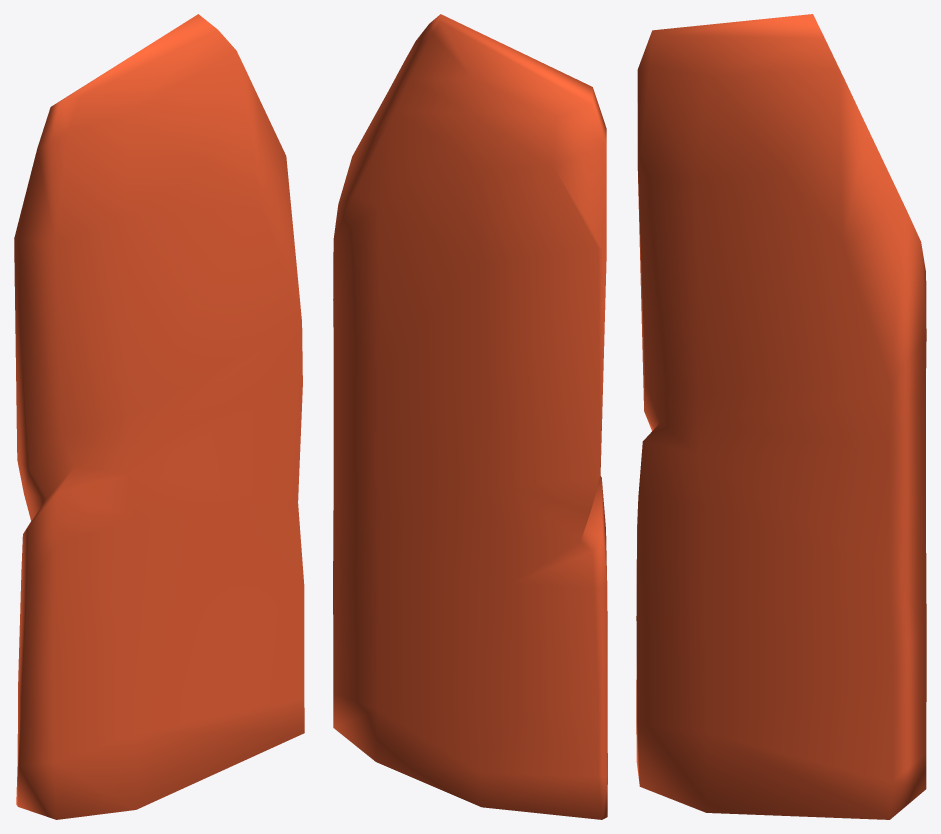
The picture shows the model from 3 angles, left to right: view 1: azimuth 30°, elevation 25°; view 2: azimuth 150°, elevation 25°; view 3: azimuth 330°, elevation 25°; orthographic projection. The views are drawn at different scales.
Visible parts, largest first — view 1: Roca33; view 2: Roca33; view 3: Roca33.
Boxes of the visible parts, <box> form: Roca33: <box>14,14,304,819</box>; Roca33: <box>333,14,607,819</box>; Roca33: <box>636,14,926,819</box>.
Bounding box in the file's own units: 71.81 × 197 × 21.68.
